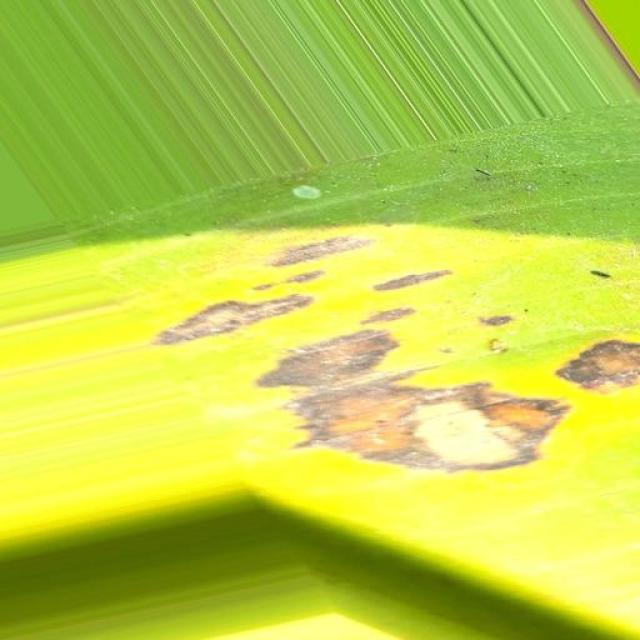Early_rust: (141, 198, 640, 505)
